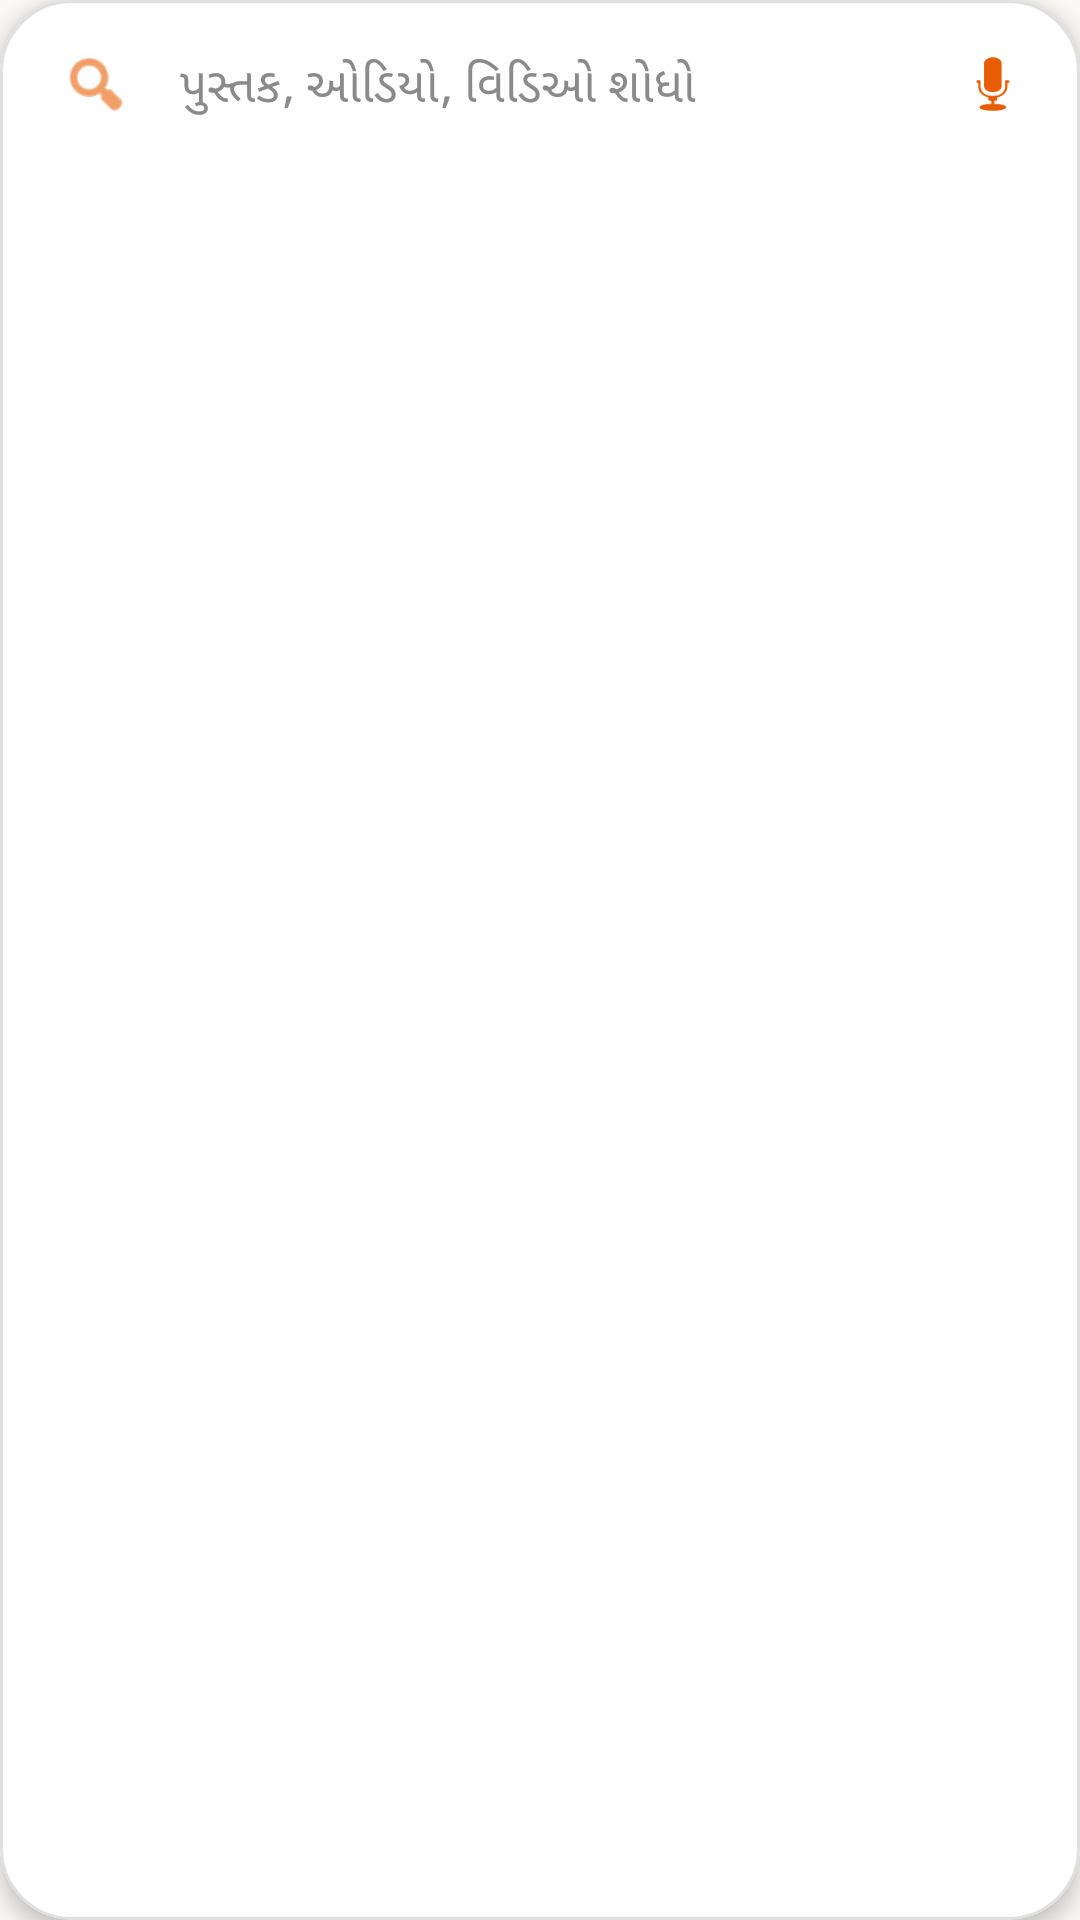

Icons on this 1080×1920 Android screen, each with the point to tap as [x,y]:
Search: [96,84]
Voice search: [993,84]
